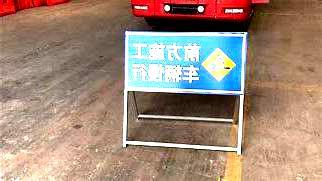sign: (127, 34, 245, 93)
